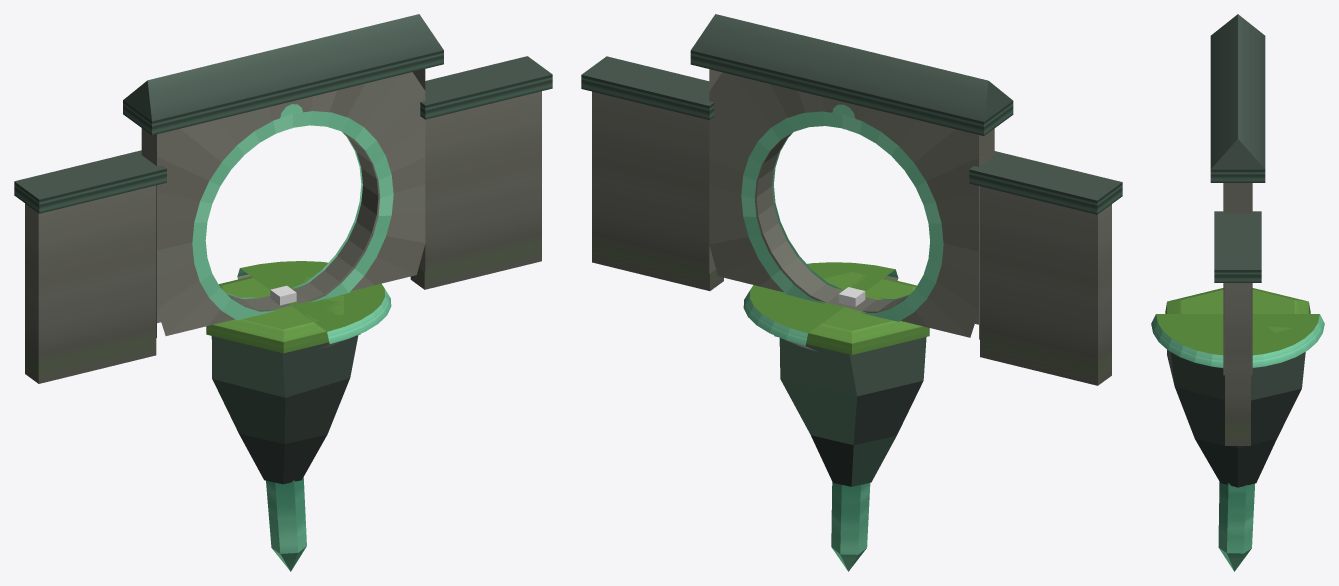
The model's file is JadeGrove_Kit.fbx.
3 renders of one model, left to right at view 1: azimuth 30°, elevation 25°; view 2: azimuth 150°, elevation 25°; view 3: azimuth 270°, elevation 25°, orthographic. The views are drawn at different scales.
Visible parts, largest first — view 1: JG_GroveGate, JG_RouteStone, JG_TreeShelf; view 2: JG_GroveGate, JG_RouteStone, JG_TreeShelf; view 3: JG_GroveGate, JG_RouteStone, JG_TreeShelf.
Boxes of the visible parts, box(x1,y1,x2,y2) form: JG_GroveGate: box(14, 14, 552, 383); JG_RouteStone: box(206, 276, 360, 571); JG_TreeShelf: box(237, 261, 391, 349); JG_GroveGate: box(581, 14, 1122, 385); JG_RouteStone: box(774, 272, 929, 571); JG_TreeShelf: box(743, 262, 898, 351); JG_GroveGate: box(1210, 14, 1265, 445); JG_RouteStone: box(1165, 288, 1310, 571); JG_TreeShelf: box(1151, 314, 1324, 368).
Size of the model in its own units: 30.6 by 29.89 by 9.54.
1 material, 1 textured.
